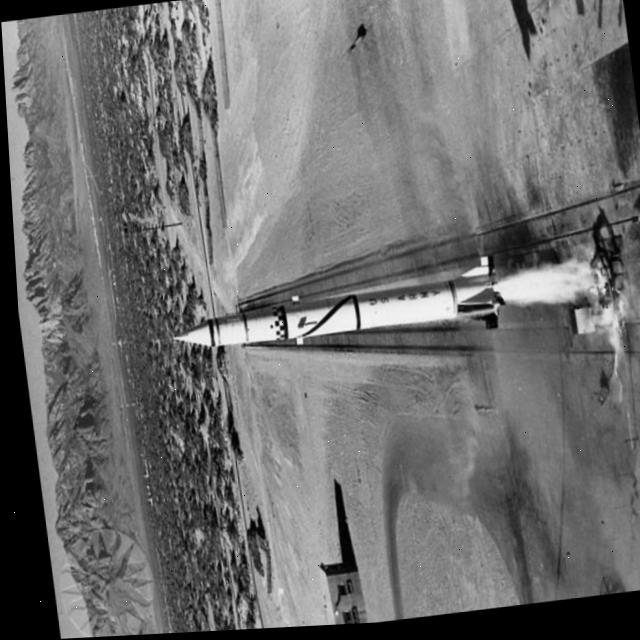missile: (159, 260, 508, 374)
